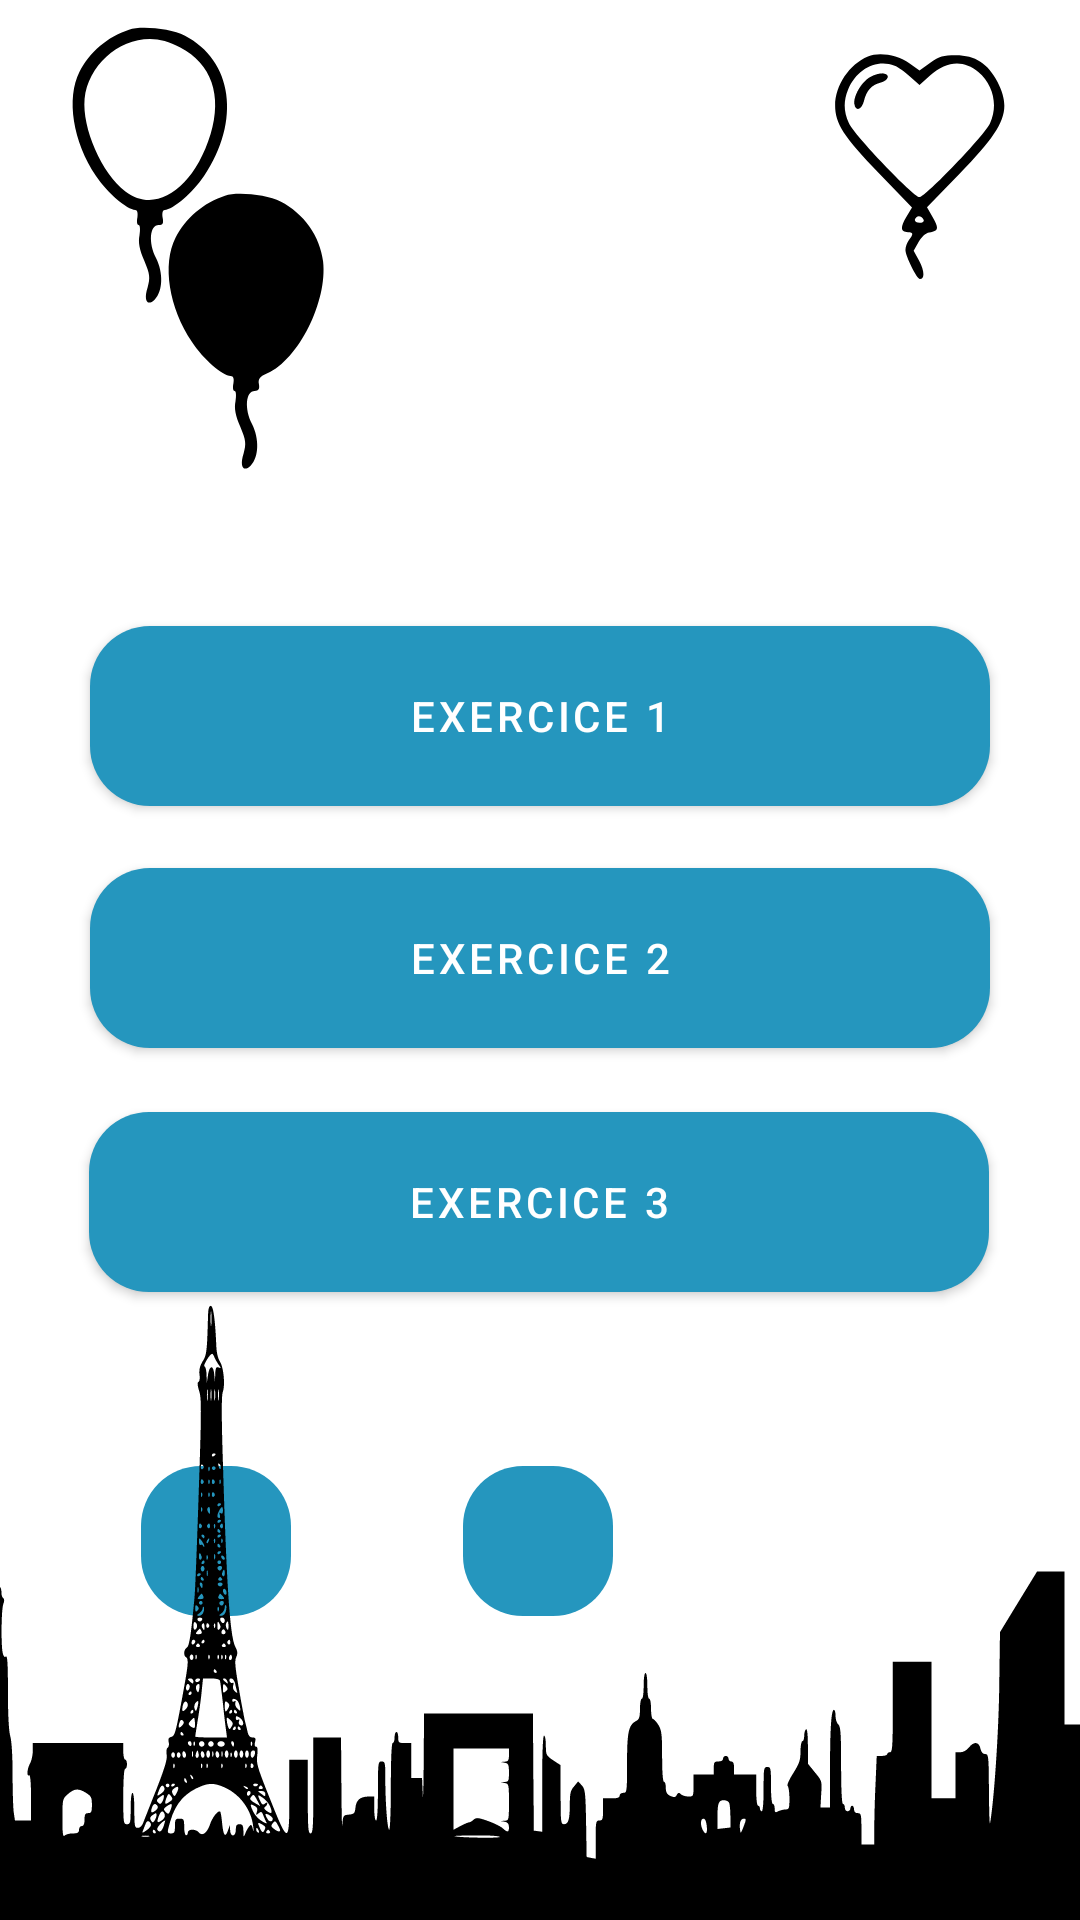

Where to tap for icons on this 1080×1920 app screen, as point (x, y):
heart balloon: point (920, 166)
